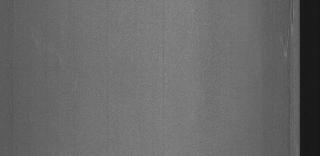silk spot: (279, 2, 297, 60)
